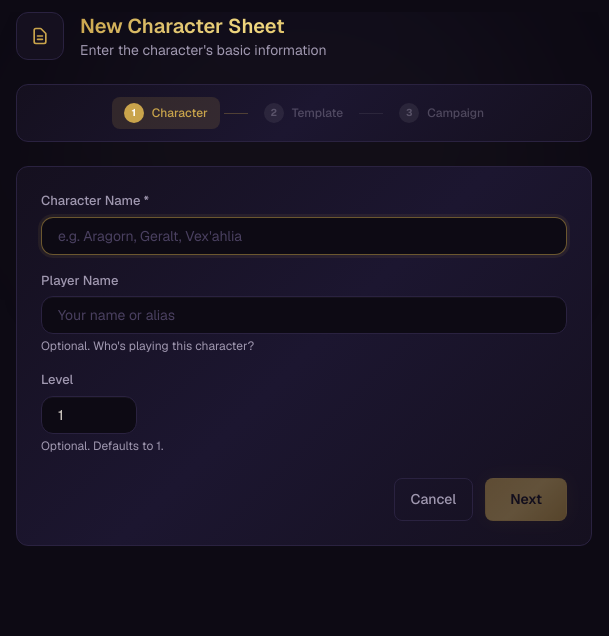
Test: NewCharacterSheetPage › moves to step 2 and shows template skeletons while fetching
Type "Aragorn" into the field with placeholder "e.g. Aragorn, Geralt, Vex'ahlia". click: (304, 236)
box: 41,216 -> 567,255
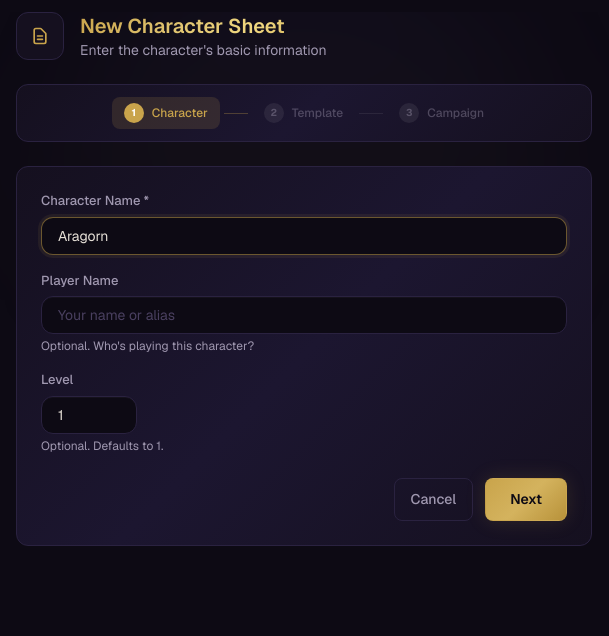
Click the button "Next". click: (526, 499)
box: 485,478 -> 567,521
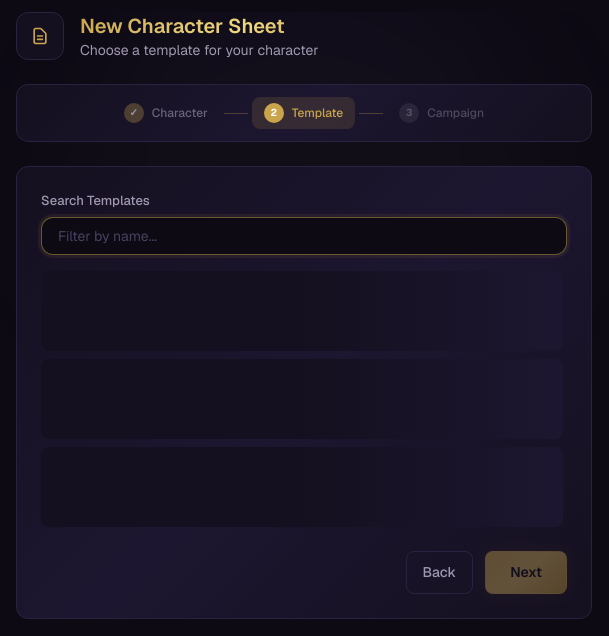
Result: the text "Choose a template for your character" is shown at 80,40 -> 318,60
